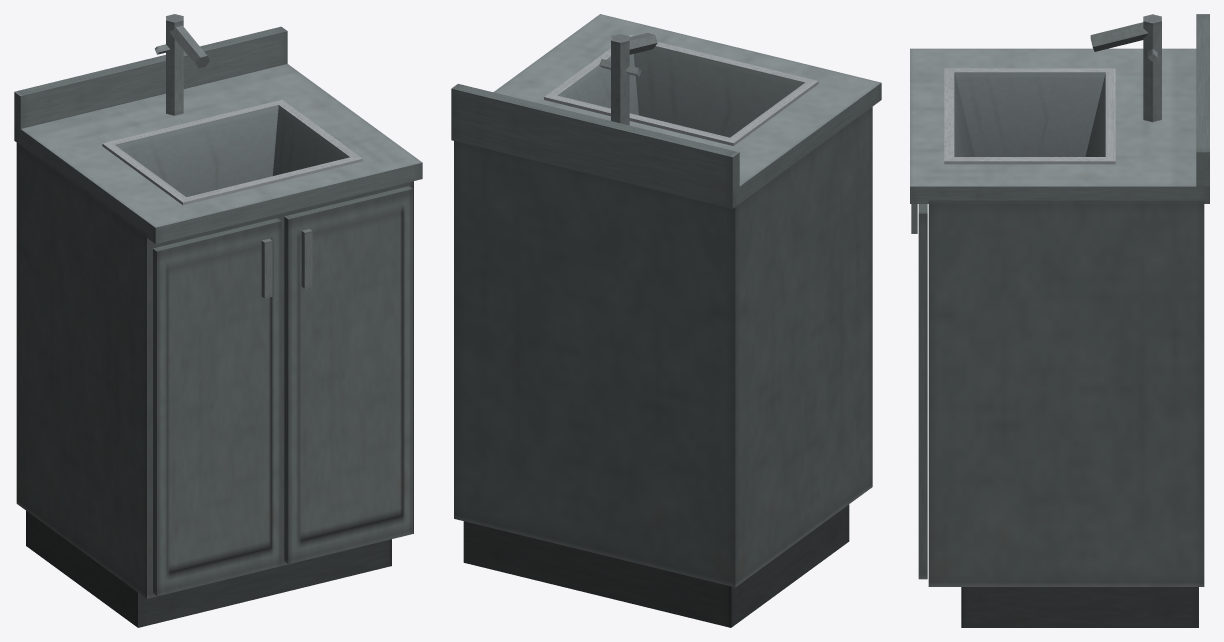
File: sink.glb
3 views of the same model, side by side, from view 1: azimuth 30°, elevation 25°; view 2: azimuth 150°, elevation 25°; view 3: azimuth 270°, elevation 25° (orthographic). The views are drawn at different scales.
Parts seen in each view (by area): view 1: core_sink; view 2: core_sink; view 3: core_sink.
Part boxes in pixels (x1,y1,x2,y2): core_sink: (14, 14, 422, 627); core_sink: (451, 14, 881, 627); core_sink: (910, 14, 1209, 627).
Size of the model in its own units: 0.6 by 1.1 by 0.55.
Materials: 1 (1 with a texture image).
